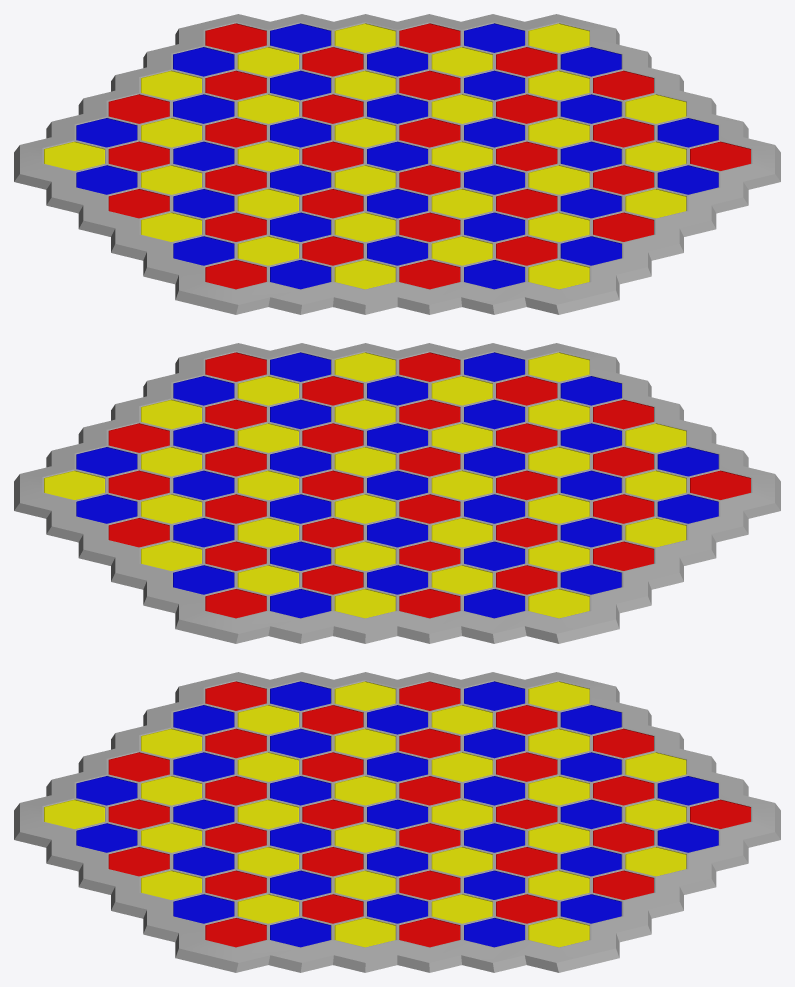
File: Board.fbx
The picture shows the model from 3 angles, top to bottom: view 1: azimuth 30°, elevation 25°; view 2: azimuth 150°, elevation 25°; view 3: azimuth 270°, elevation 25°; orthographic projection.
Visible parts, largest first — view 1: polySurface126; view 2: polySurface126; view 3: polySurface126.
Part boxes in pixels (left/top/right/bottom): polySurface126: left=14, top=14, right=780, bottom=314; polySurface126: left=14, top=343, right=780, bottom=643; polySurface126: left=14, top=672, right=780, bottom=972.
Size of the model in its own units: 19.83 by 0.502 by 21.75.
